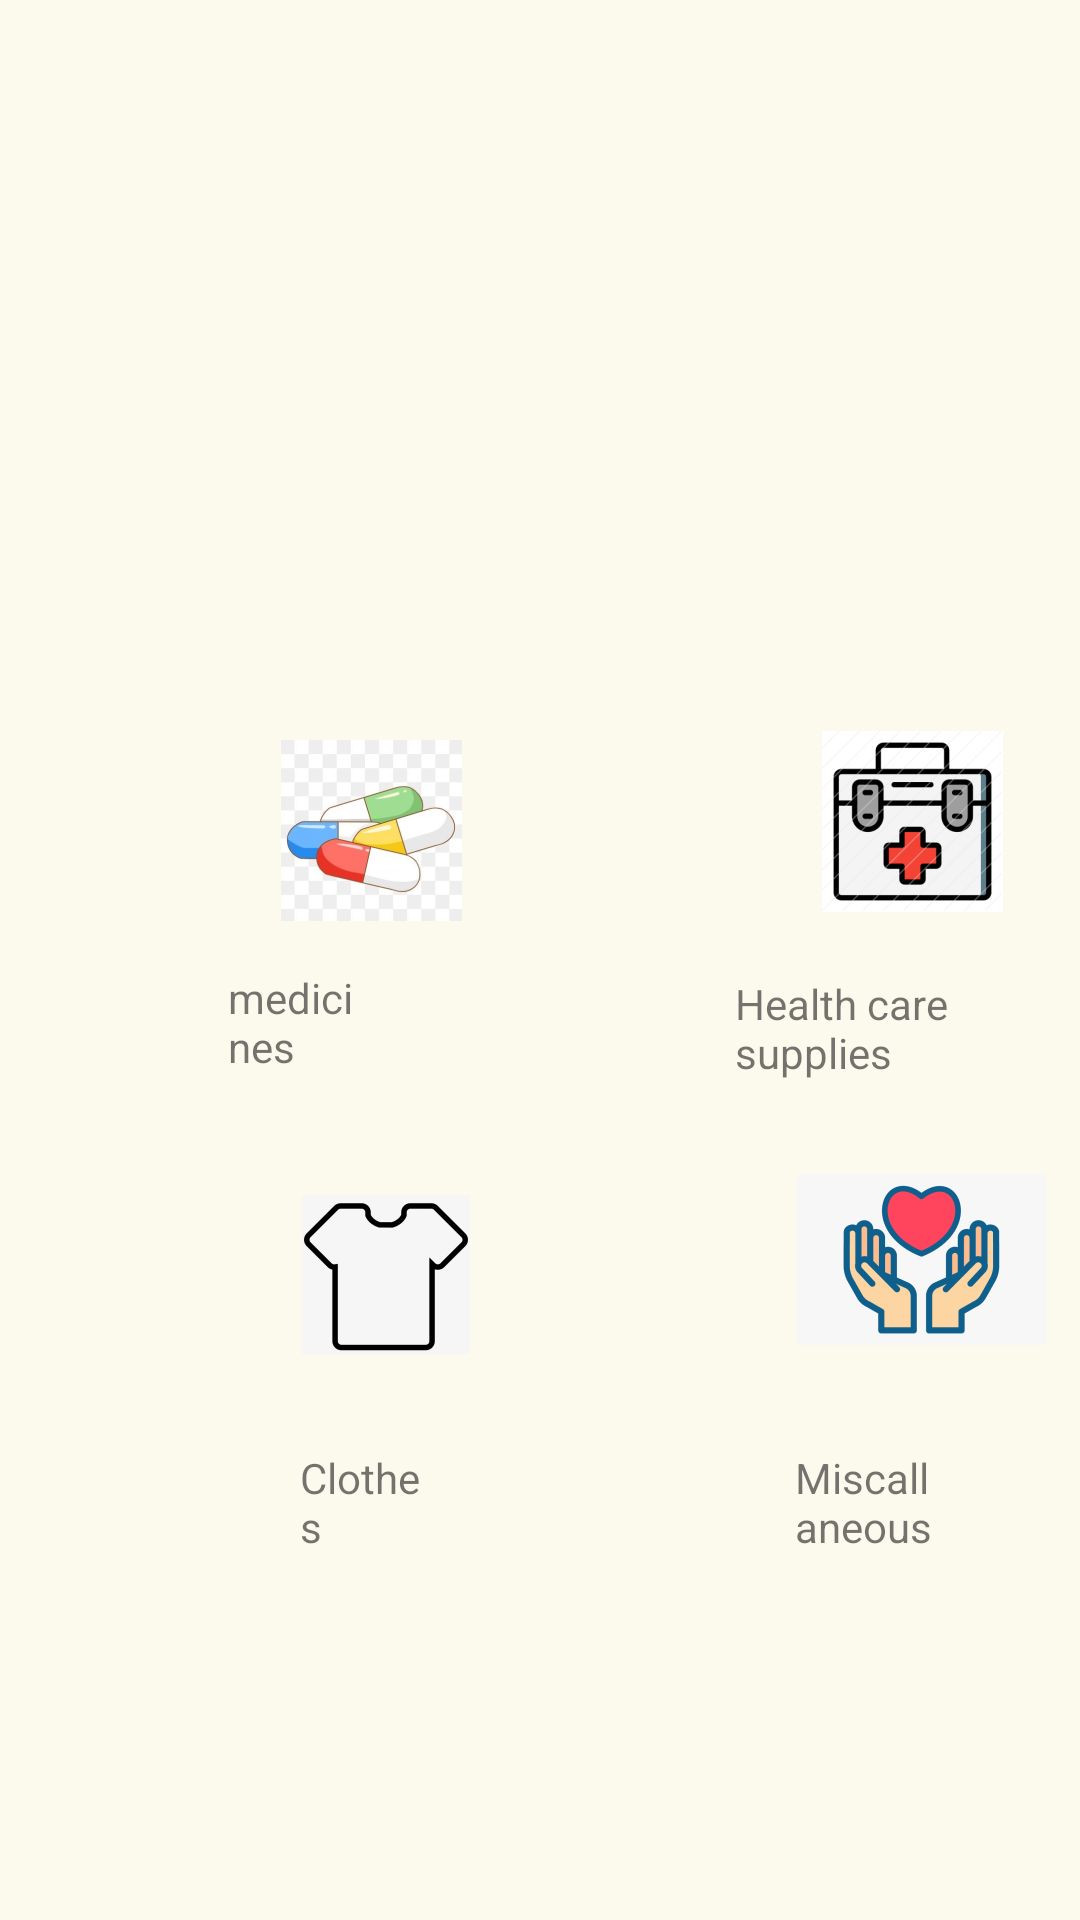

Locate icon controls on the screen. Image size 1080w x 1920h, boxes as {"left": x1, "top": y1, "right": x2, "bottom": y2}.
medkit: {"left": 822, "top": 731, "right": 1003, "bottom": 912}
tshirt: {"left": 302, "top": 1195, "right": 470, "bottom": 1354}
